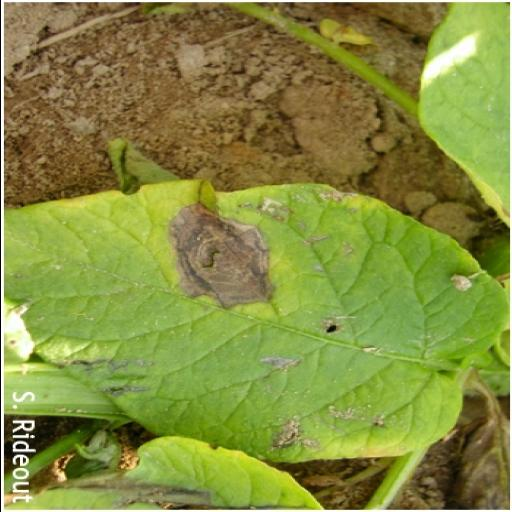disease_tomato: (0, 180, 508, 464)
